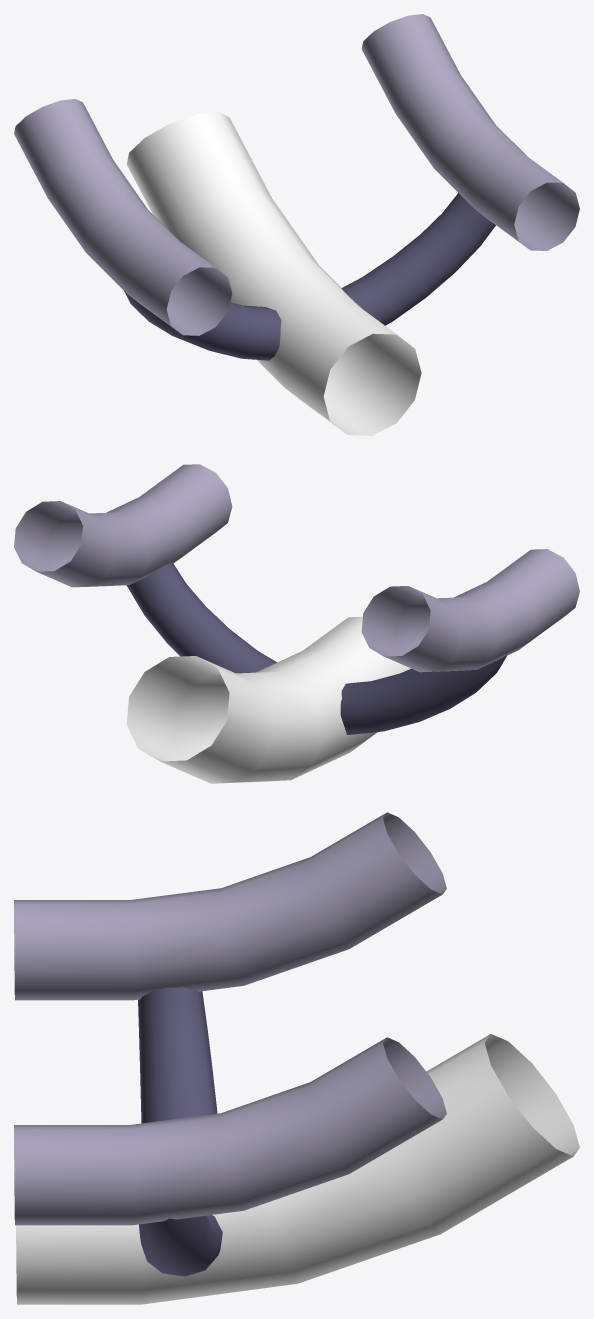
File: rail-up-start.glb
The picture shows the model from 3 angles, top to bottom: view 1: azimuth 30°, elevation 25°; view 2: azimuth 150°, elevation 25°; view 3: azimuth 270°, elevation 25°; orthographic projection. The views are drawn at different scales.
Visible parts, largest first — view 1: Plane.290_Material.001_0.002; view 2: Plane.290_Material.001_0.002; view 3: Plane.290_Material.001_0.002.
Part boxes in pixels (x1,y1,x2,y2): Plane.290_Material.001_0.002: (14, 14, 579, 435); Plane.290_Material.001_0.002: (14, 464, 579, 783); Plane.290_Material.001_0.002: (14, 812, 579, 1304).
Size of the model in its own units: 2.74 by 1.75 by 2.45.
1 material, 1 textured.
